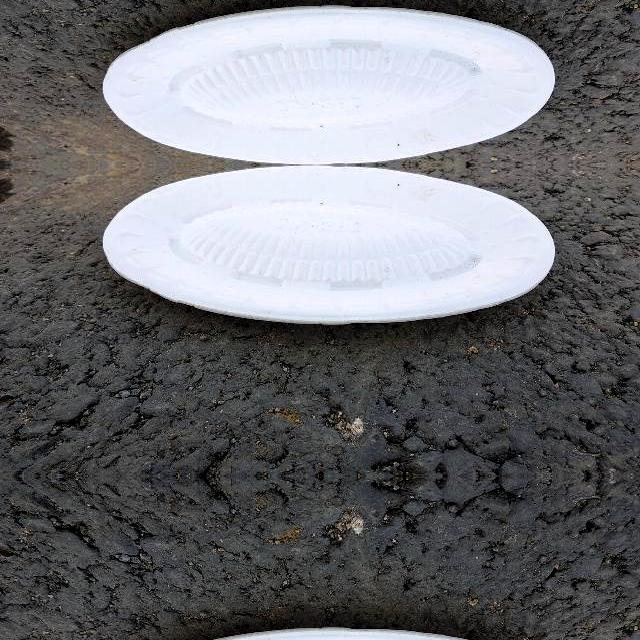Styrofoam: (102, 164, 556, 326), (102, 2, 556, 164), (102, 165, 556, 323), (102, 5, 556, 163)
